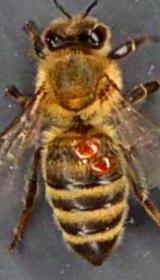varroa_mite: (70, 133, 98, 161), (85, 154, 118, 175)
